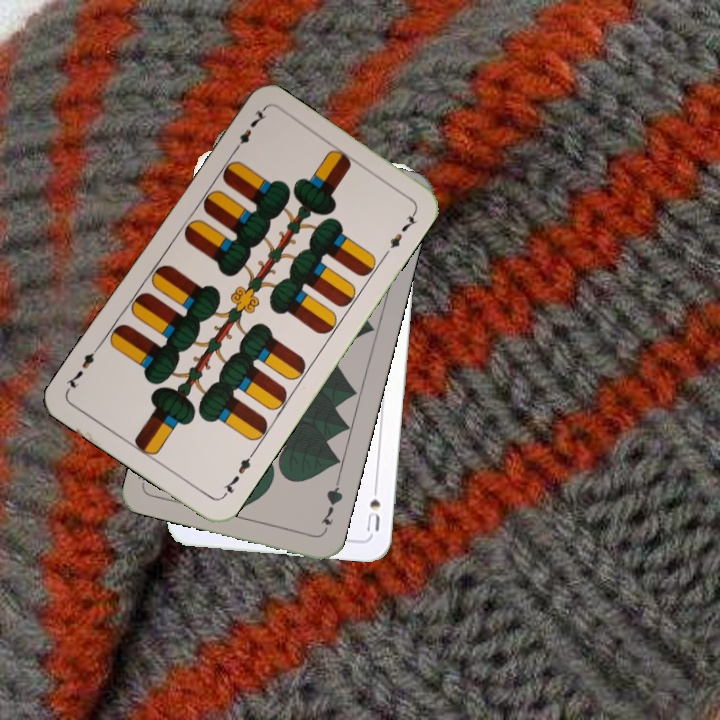E7: (228, 105, 269, 157), (218, 448, 257, 500)
G7: (317, 477, 346, 535)
SU: (362, 477, 383, 535)
